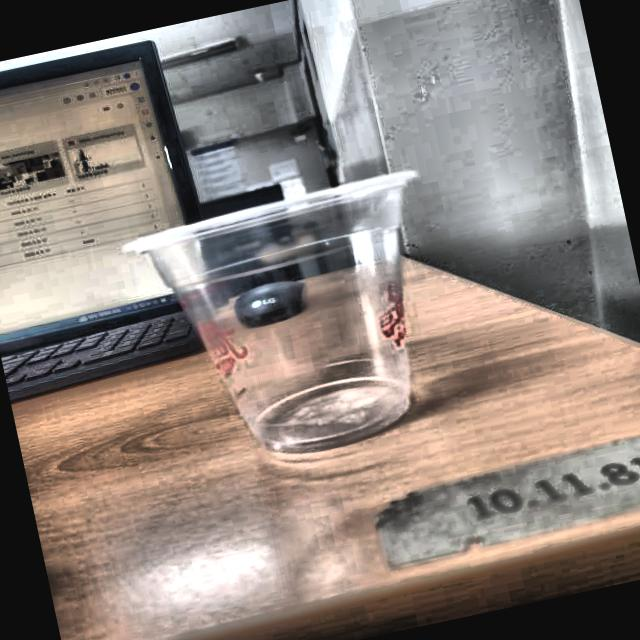plastic cup: (116, 166, 482, 481)
